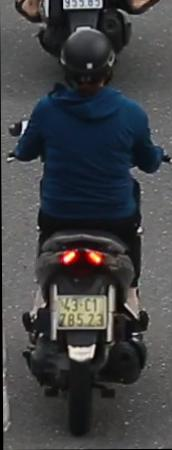LP: (54, 289, 111, 333)
helmet: (56, 26, 122, 104)
